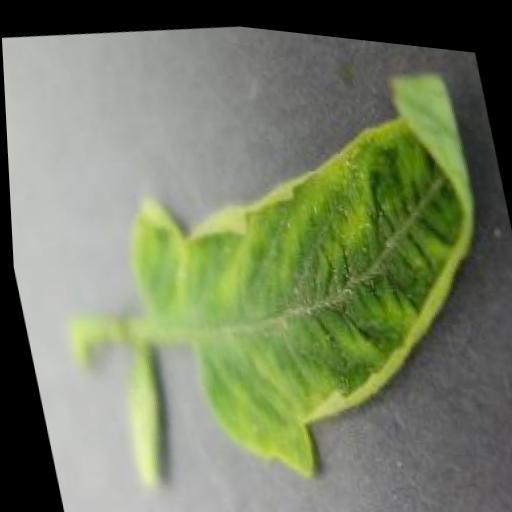Yellow Leaf Curl Virus: (89, 30, 512, 510)
